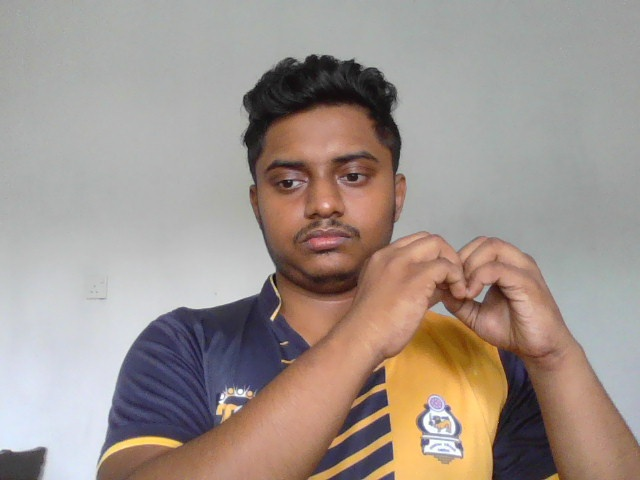More: (354, 229, 572, 366)
